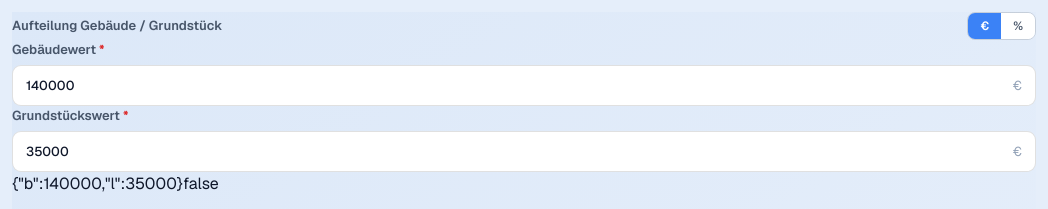
Test: BuildingShareFields › shows the edited euro values in the euro inputs after switching back
Click the button "%".
click(1018, 26)  # box [1001,13,1035,39]
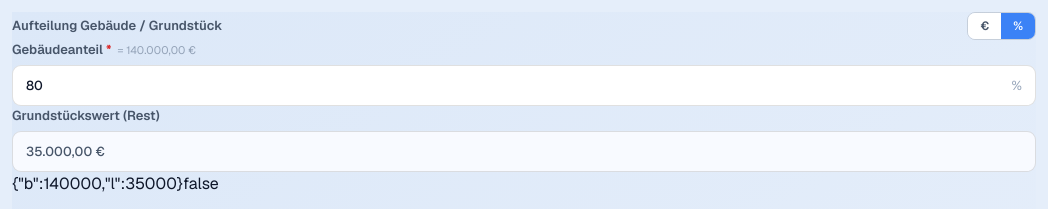
Replace the text in the field labelled "Gebäudeanteil *= 140.000,00 € %" with "30" at (512, 85), box [13,66,1012,105]
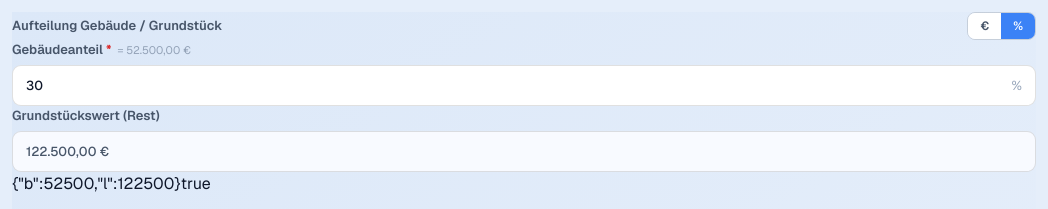
Click the button "€".
click(985, 26)  # box [968,13,1001,39]
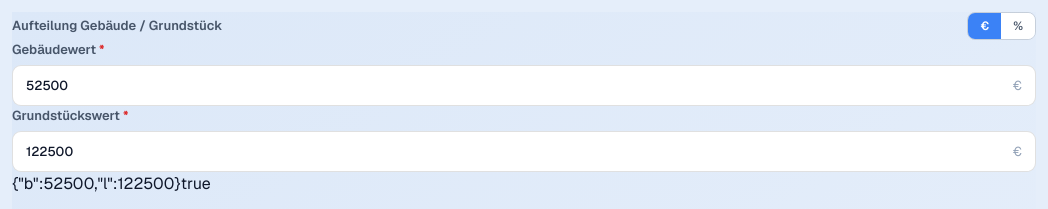
Expected: the number field labelled "Gebäudewert * €" holds "52500", [13,66,1012,105]
Expected: the number field labelled "Grundstückswert * €" holds "122500", [13,132,1012,171]
